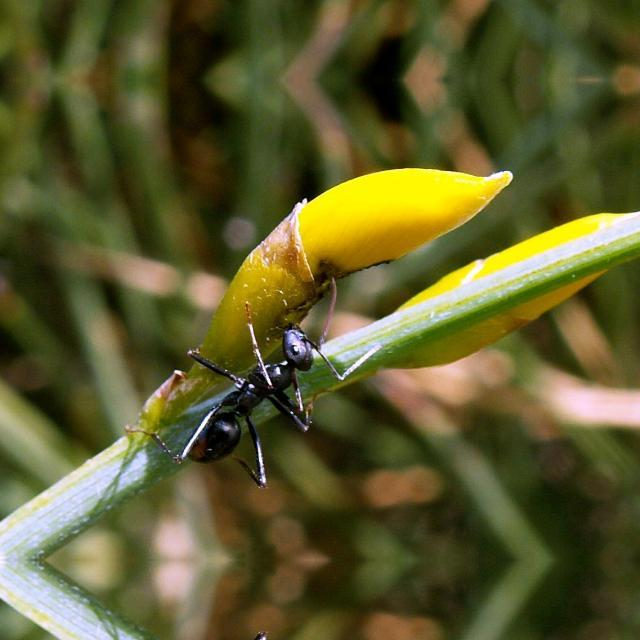Cataglyphis: (149, 302, 357, 484)
